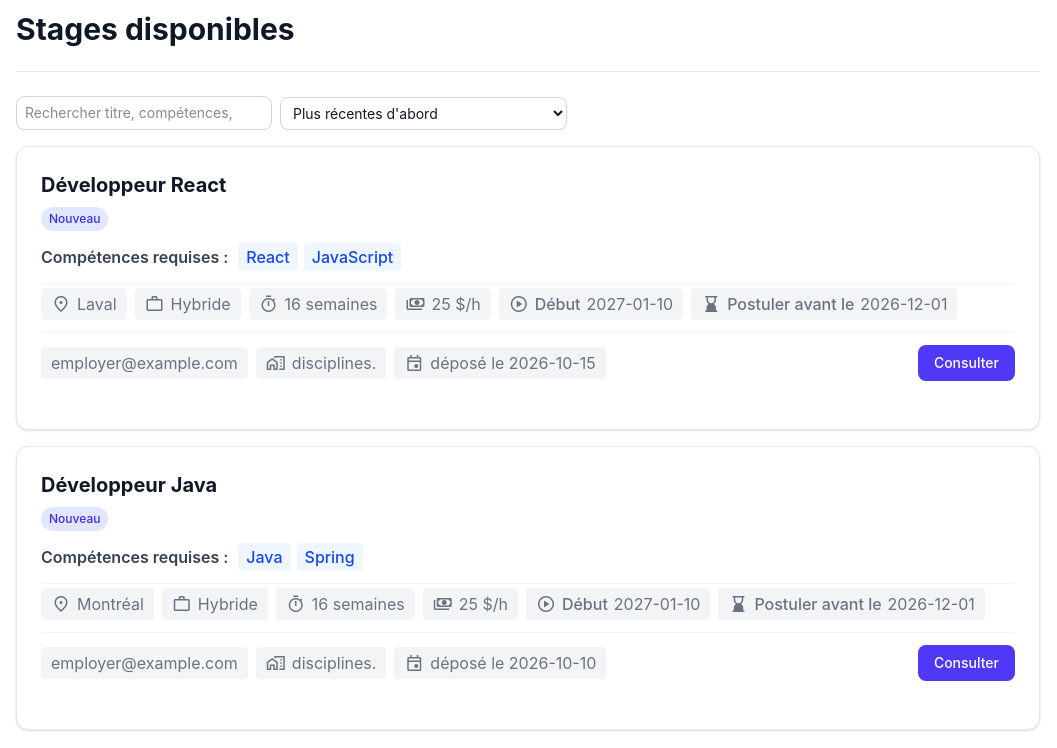
Test: StudentInternships supports searching and sorting › shouldSearchInternshipsByLocation
Expected: the heading "Développeur React" is shown, [41, 173, 226, 197]
Type "Montréal" into the search field at (144, 113), box [16, 96, 272, 130]
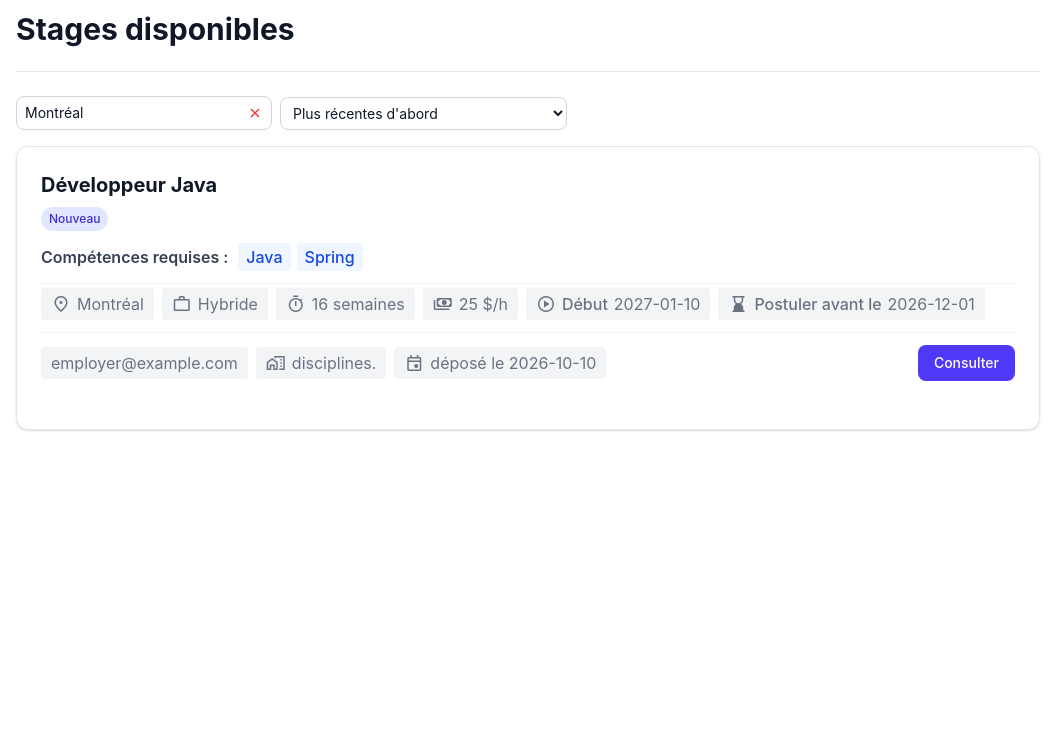
Expected: the heading "Développeur Java" is shown, [41, 173, 217, 197]
Expected: the heading "Développeur React" is gone
